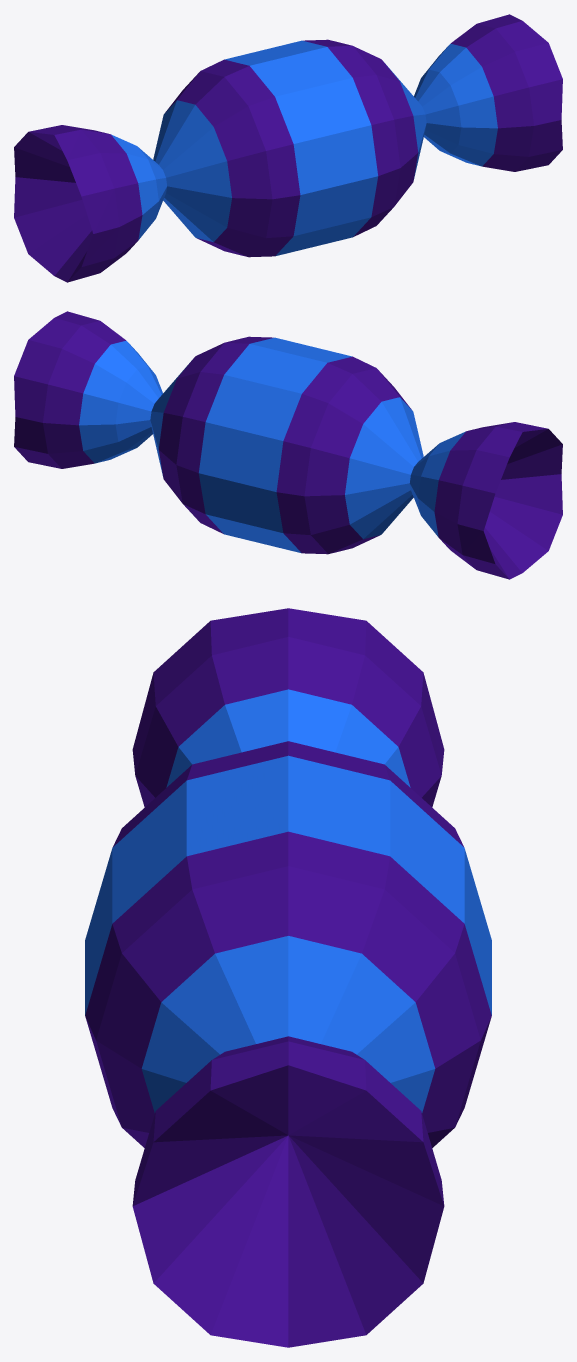
Rendered from candyC.obj.
3 renders of one model, top to bottom at view 1: azimuth 30°, elevation 25°; view 2: azimuth 150°, elevation 25°; view 3: azimuth 270°, elevation 25°, orthographic. The views are drawn at different scales.
Visible parts, largest first — view 1: candyC_Cylinder.009; view 2: candyC_Cylinder.009; view 3: candyC_Cylinder.009.
Boxes of the visible parts, <box> form: candyC_Cylinder.009: <box>14,14,562,282</box>; candyC_Cylinder.009: <box>14,311,562,579</box>; candyC_Cylinder.009: <box>85,608,491,1347</box>.
Bounding box in the file's own units: 0.9694 × 0.3546 × 0.3546.
